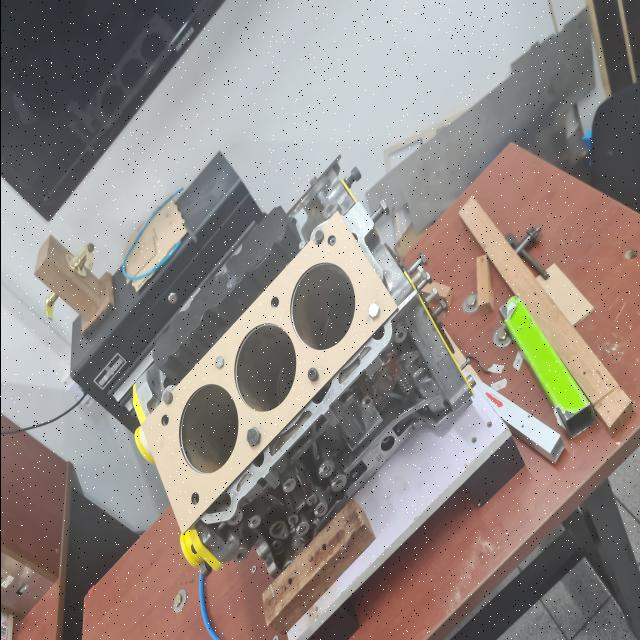vista1: (142, 212, 395, 533)
